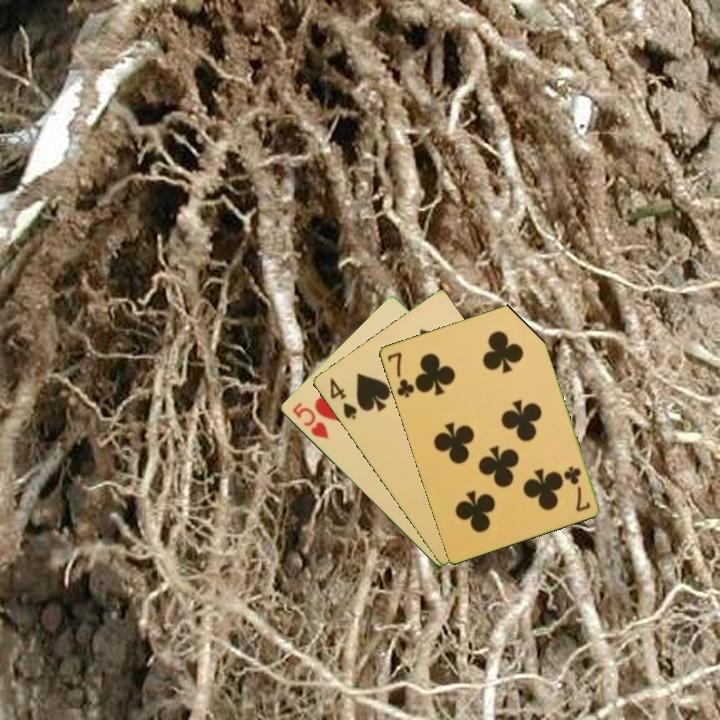4s: (326, 374, 360, 423)
5h: (288, 399, 332, 442)
7c: (383, 348, 417, 401), (561, 462, 593, 514)
